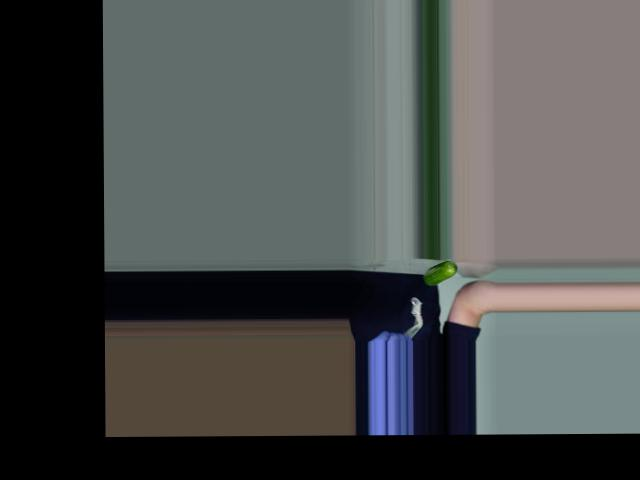cucumber: (423, 260, 457, 285)
